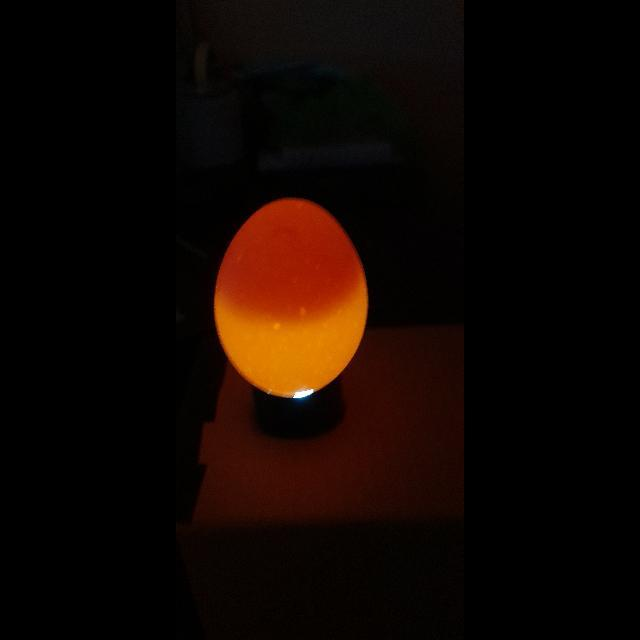Fertile: (208, 192, 368, 396)
